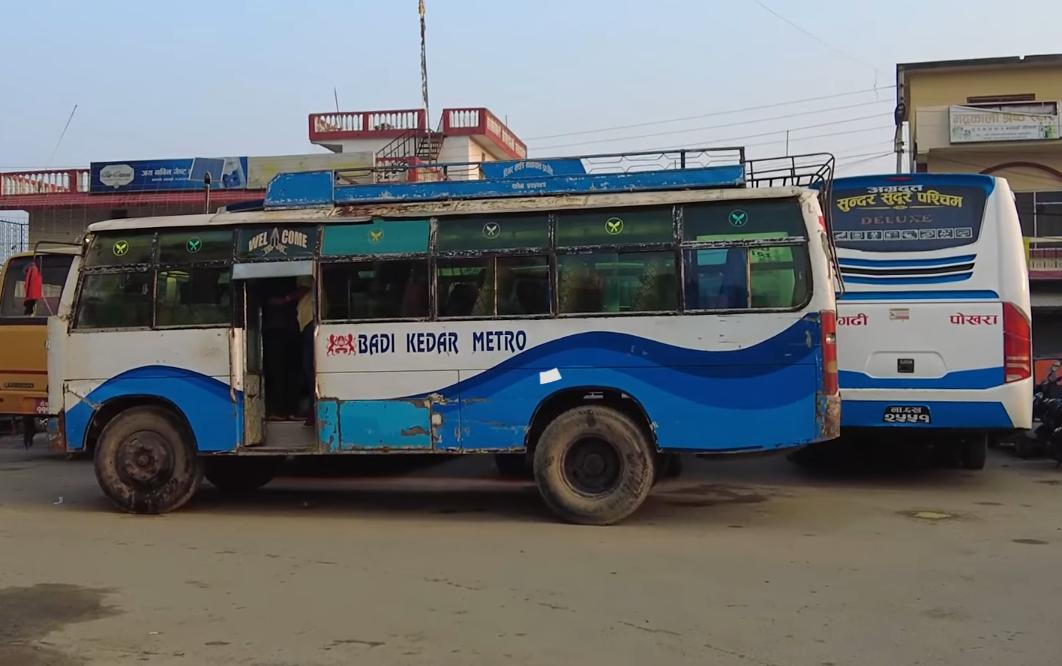bus: (20, 140, 841, 540), (803, 161, 1043, 479)
